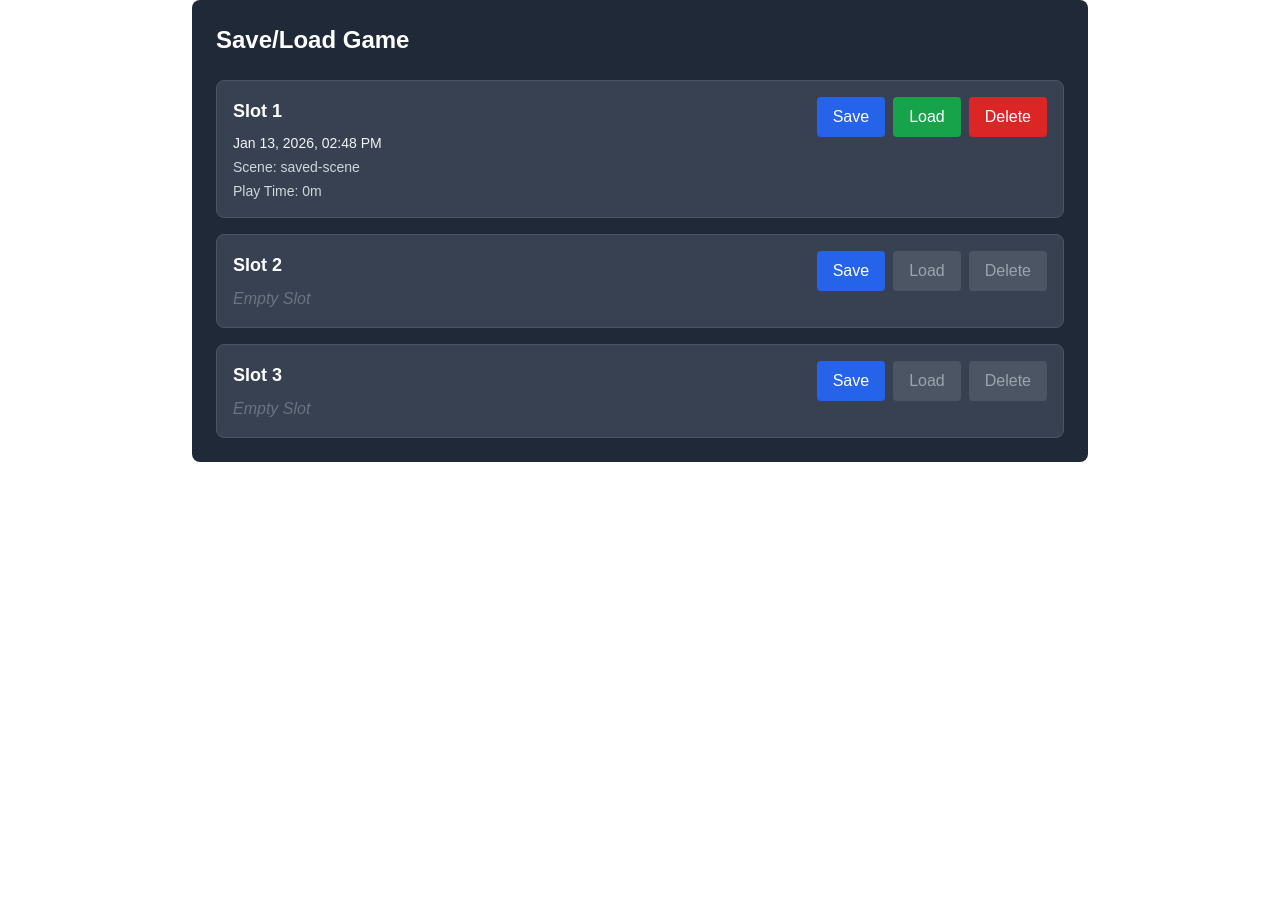
SaveLoadMenu › should load game when load button is clicked
Click the 1st button "Load": (927, 117) top-left (893, 97), bottom-right (961, 137)
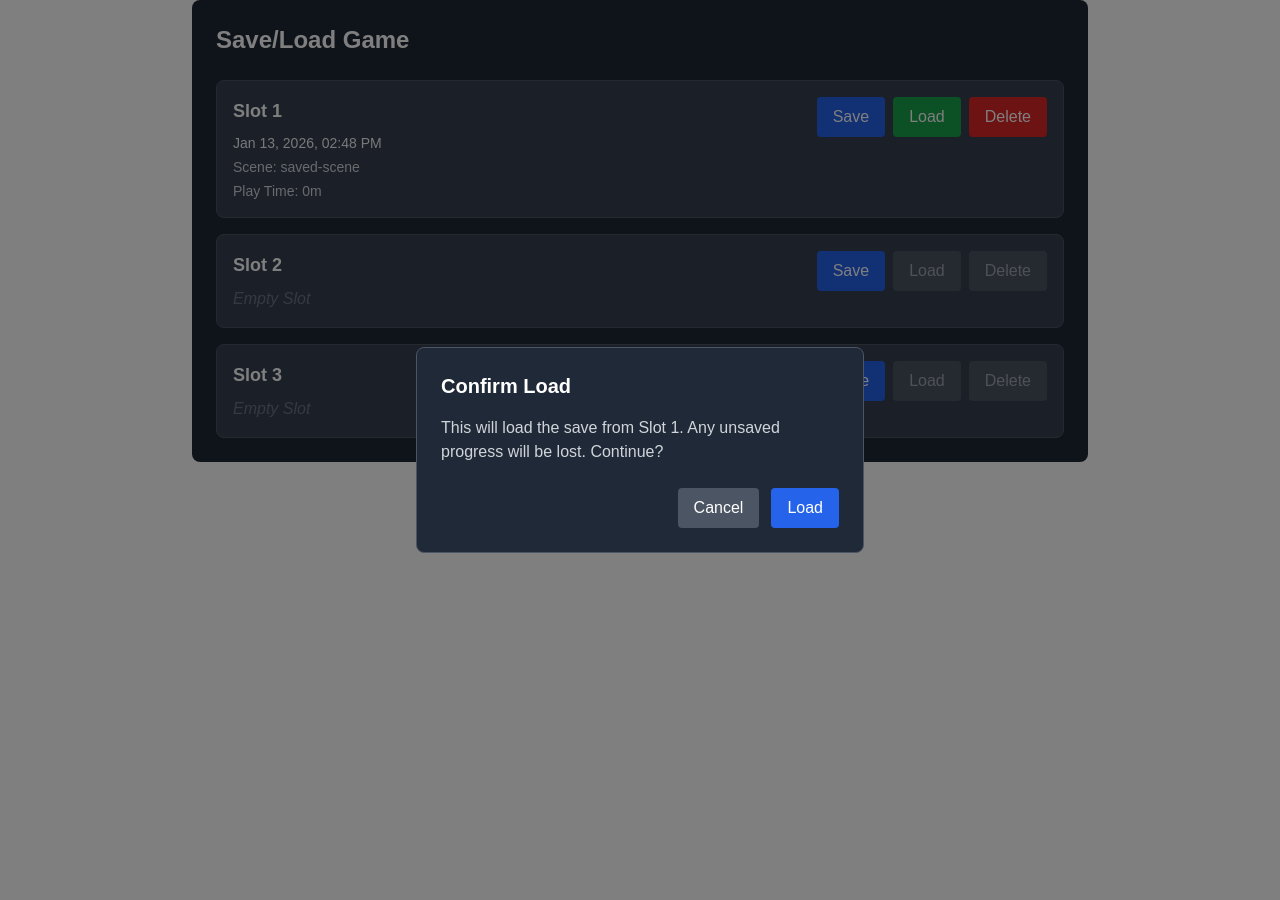
Expected: the heading "Confirm Load" is shown, top-left (441, 375), bottom-right (571, 397)
Click the button "Load": (805, 508) top-left (771, 488), bottom-right (839, 528)
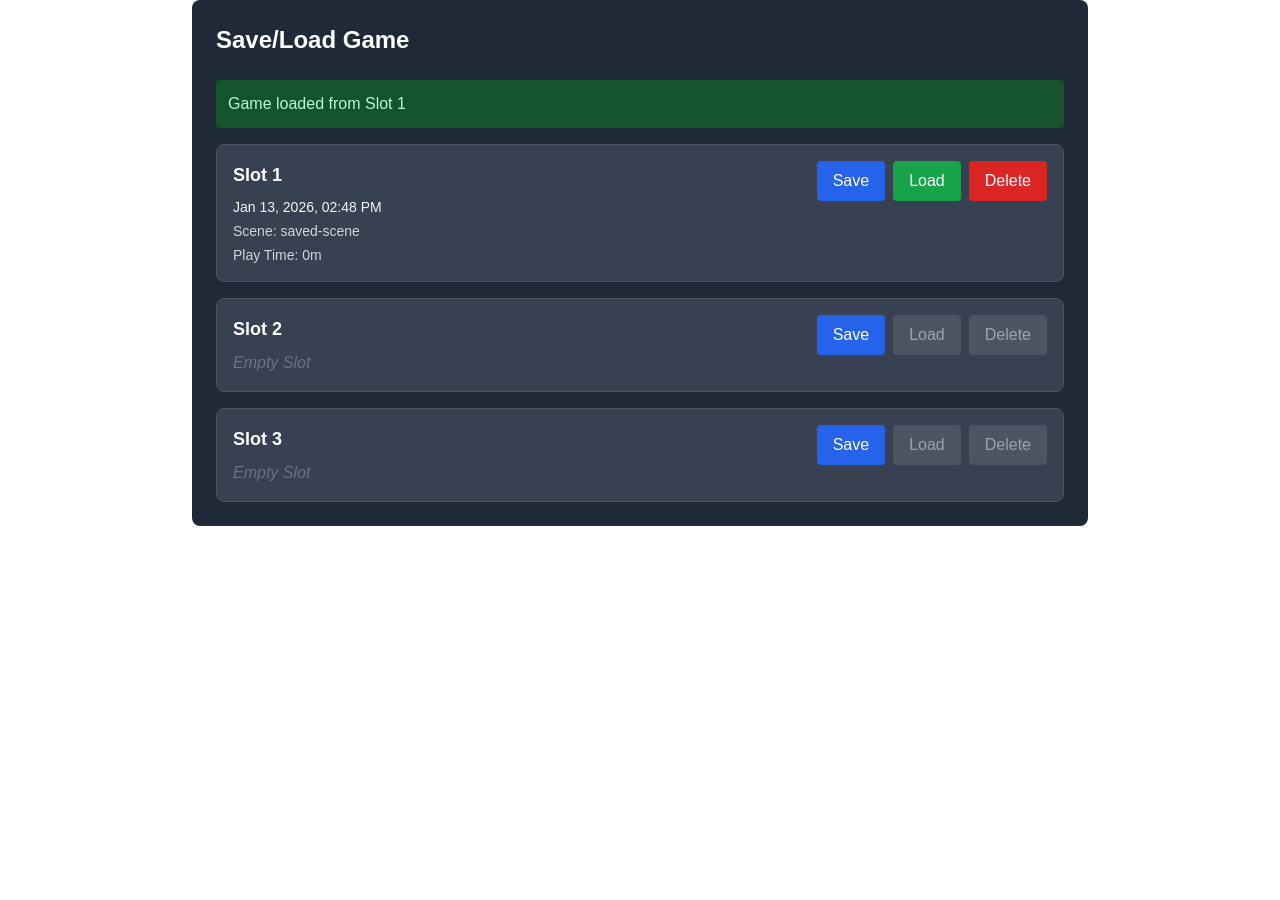
Expected: the text "Game loaded from Slot 1" is shown, top-left (216, 80), bottom-right (1064, 128)
